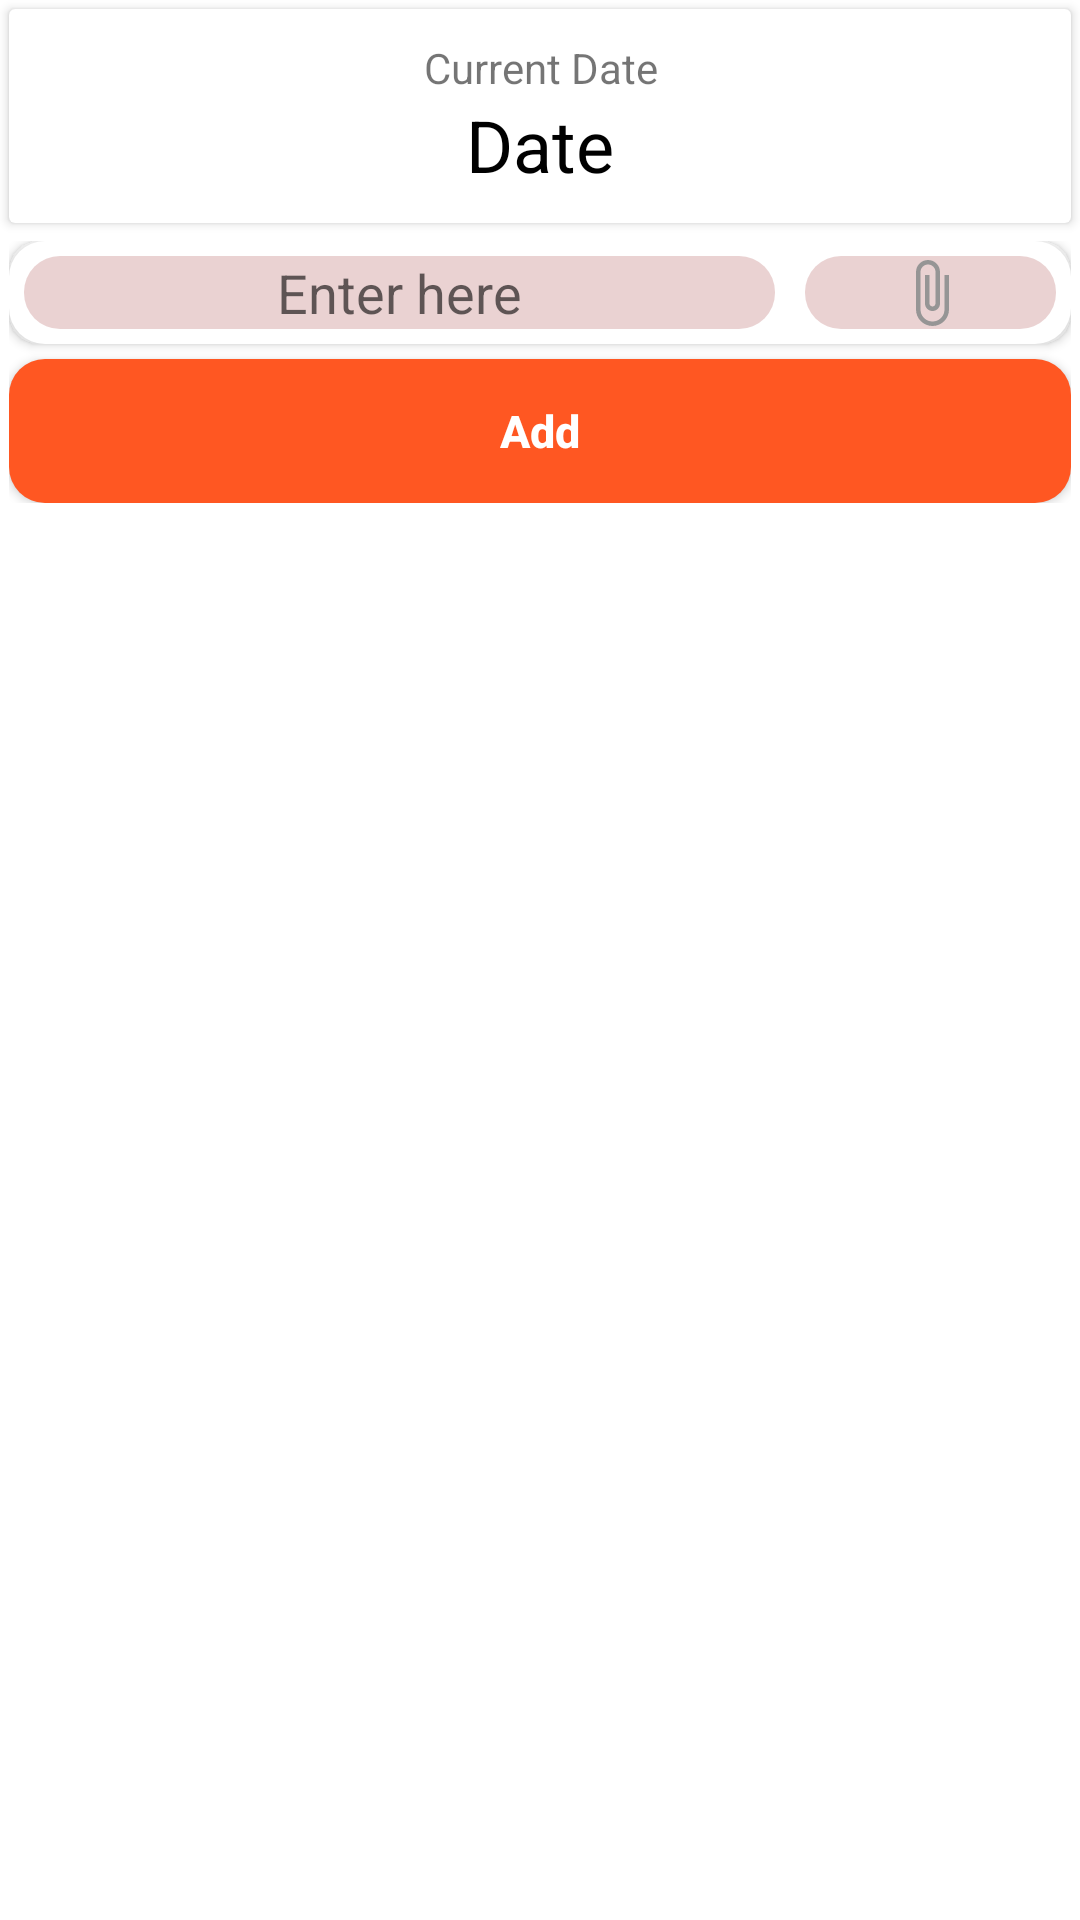

Named icons in this screenshot (1080 x 1920) and their bounding boxes, (x1, y1, x2, y2):
attach file: (805, 256, 1056, 329)
